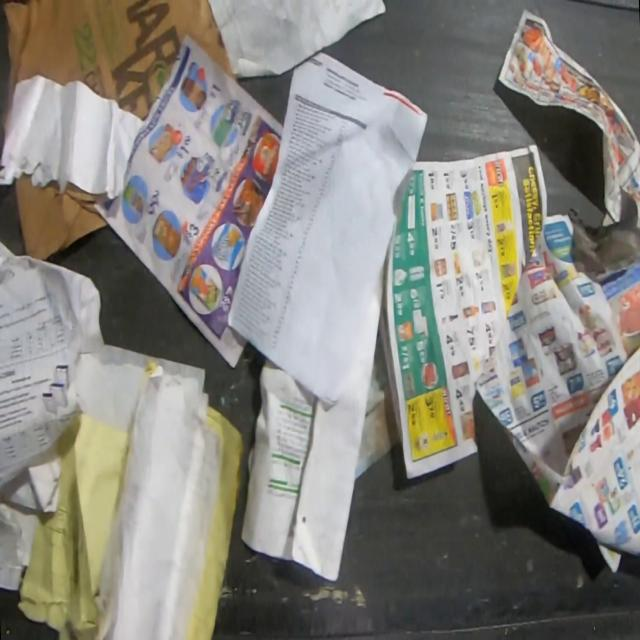cardboard: (4, 0, 236, 124), (13, 173, 109, 261)
